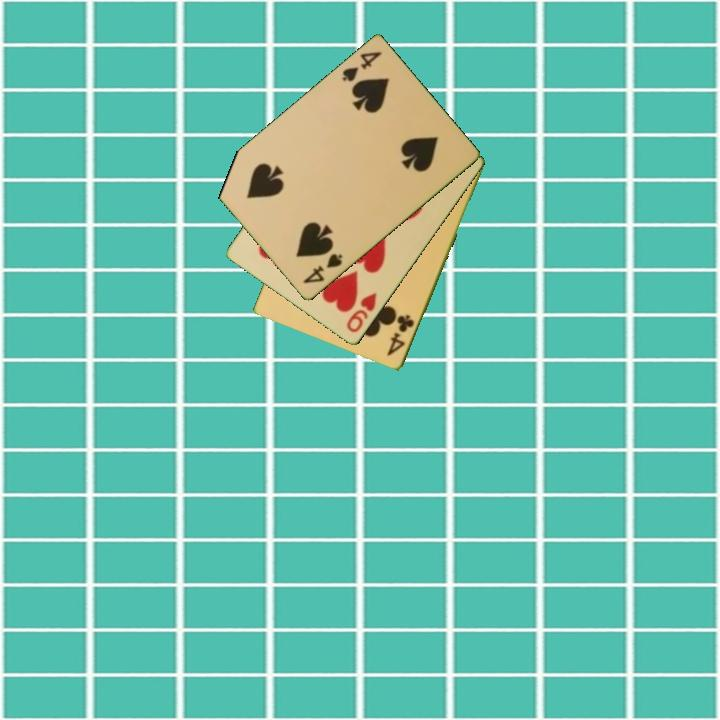4c: (383, 311, 417, 359)
4s: (299, 250, 346, 287), (338, 48, 385, 85)
9h: (343, 290, 380, 336)
